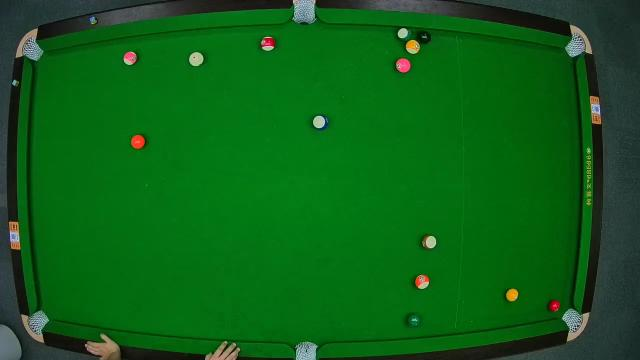bag1: (22, 38, 44, 60)
bag2: (291, 0, 317, 26)
bag3: (566, 29, 588, 57)
bag4: (29, 310, 49, 334)
bag5: (294, 340, 318, 360)
bag6: (563, 308, 585, 332)
ball0: (188, 52, 204, 68)
ball1: (505, 287, 519, 303)
ball10: (312, 115, 328, 130)
ball11: (260, 36, 276, 50)
ball12: (122, 50, 138, 66)
ball13: (415, 275, 431, 291)
ball14: (396, 26, 412, 42)
ball15: (422, 234, 438, 250)
ball3: (548, 300, 562, 312)
ball4: (396, 58, 412, 74)
ball5: (130, 134, 146, 150)
ball6: (406, 312, 422, 328)
ball8: (418, 30, 432, 44)
ball9: (407, 40, 421, 54)
